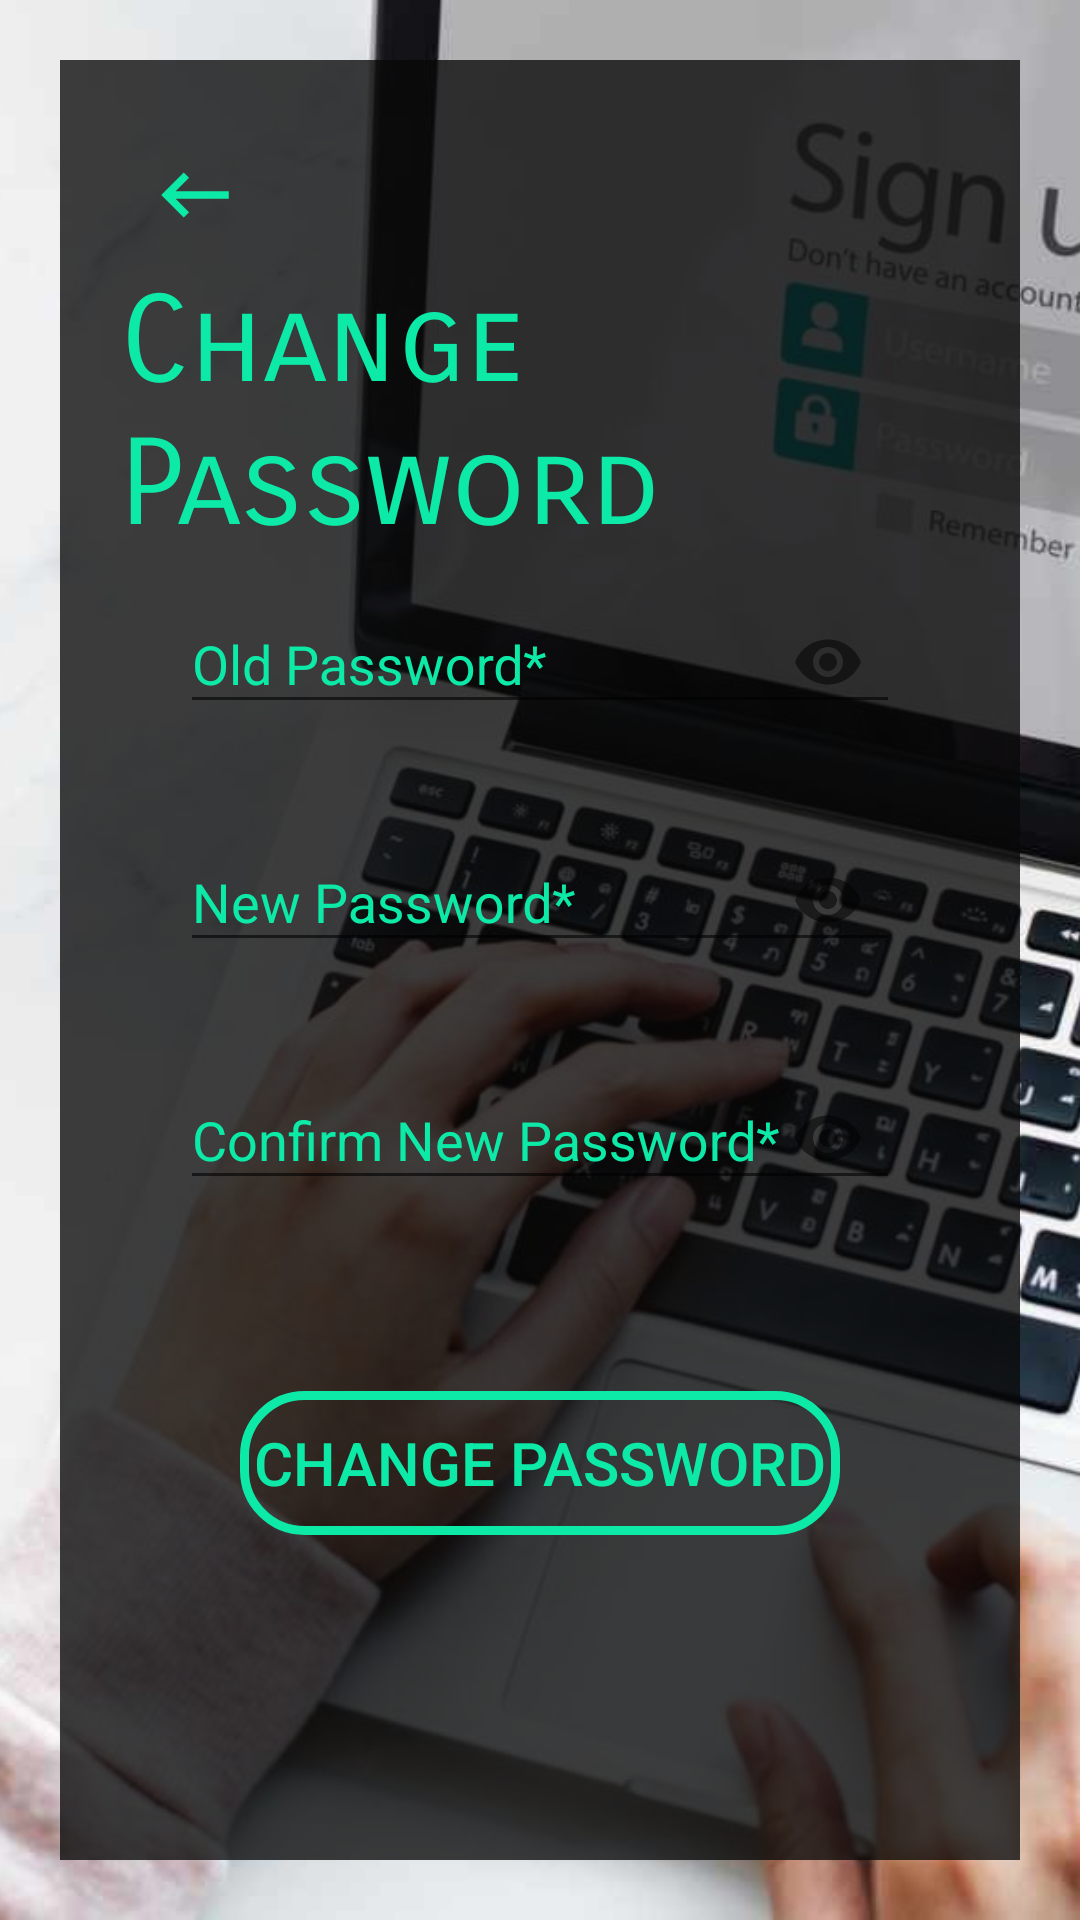

Point at icon controls on the screen. Image size 1080px×1920px, points as [x,y].
back: [195,195]
